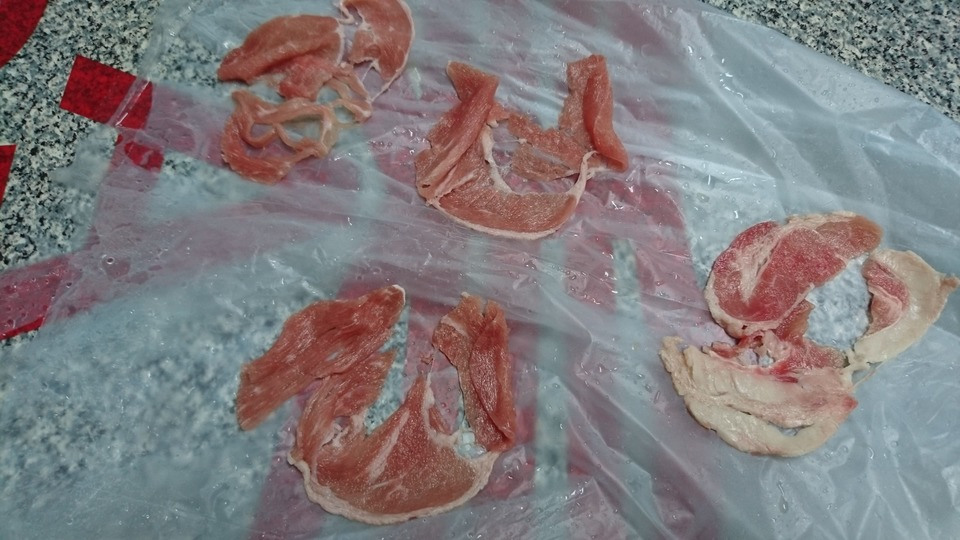restructured meat: (669, 201, 960, 462), (239, 281, 532, 537), (429, 46, 625, 241), (214, 1, 412, 162)
